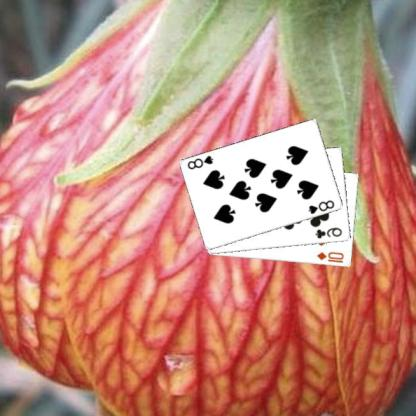10D: (316, 249, 347, 265)
8S: (307, 197, 338, 216), (186, 153, 217, 171)
9C: (315, 225, 345, 240)
